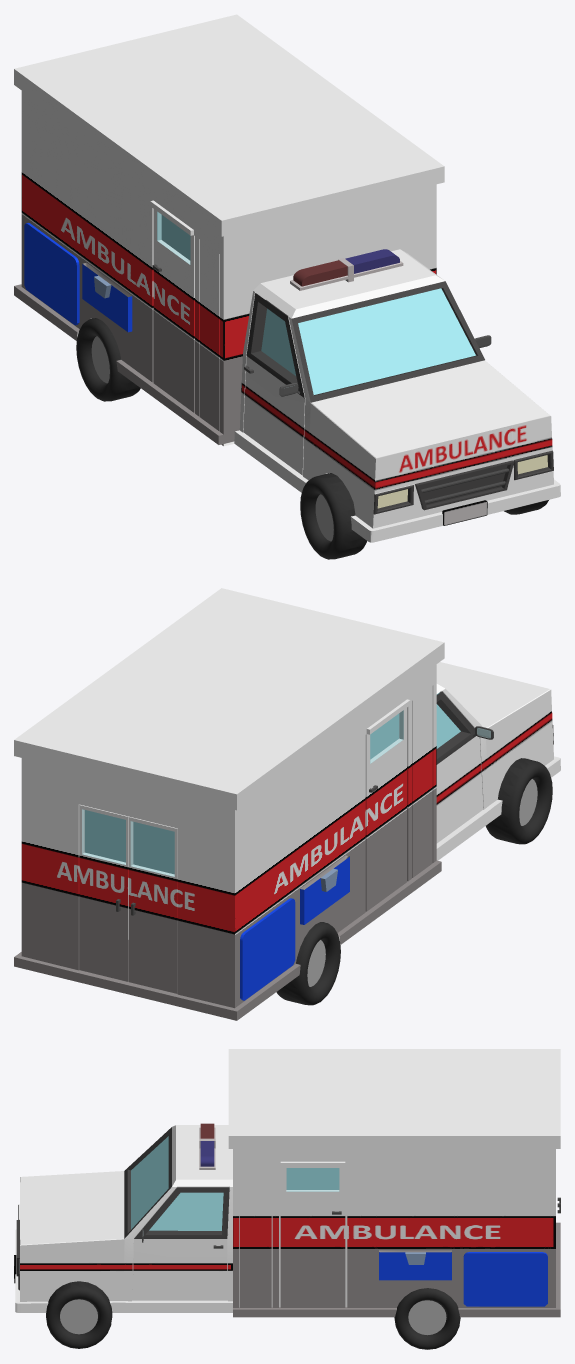
The model's file is Ambulance.fbx.
3 renders of one model, top to bottom at view 1: azimuth 30°, elevation 25°; view 2: azimuth 150°, elevation 25°; view 3: azimuth 270°, elevation 25°, orthographic. The views are drawn at different scales.
Parts seen in each view (by area): view 1: BackAmbulance, Front, polySurface38, polySurface37, Siren, pasted__Liscense_Plate6; view 2: BackAmbulance, Front, polySurface38, polySurface37; view 3: BackAmbulance, Front, polySurface36, polySurface34, Siren.
Part boxes in pixels (<box>): BackAmbulance: <box>14,14,444,446</box>; Front: <box>234,249,560,542</box>; polySurface38: <box>300,473,366,559</box>; polySurface37: <box>76,318,140,401</box>; Siren: <box>290,249,403,290</box>; pasted__Liscense_Plate6: <box>442,500,487,525</box>; BackAmbulance: <box>14,588,444,1020</box>; Front: <box>436,662,560,860</box>; polySurface38: <box>486,758,552,844</box>; polySurface37: <box>276,922,340,1005</box>; BackAmbulance: <box>228,1049,560,1317</box>; Front: <box>15,1125,232,1312</box>; polySurface36: <box>46,1281,112,1348</box>; polySurface34: <box>394,1288,460,1349</box>; Siren: <box>199,1123,215,1169</box>.
Size of the model in its own units: 4.71 by 5.25 by 12.06.
10 materials, 5 textured.
